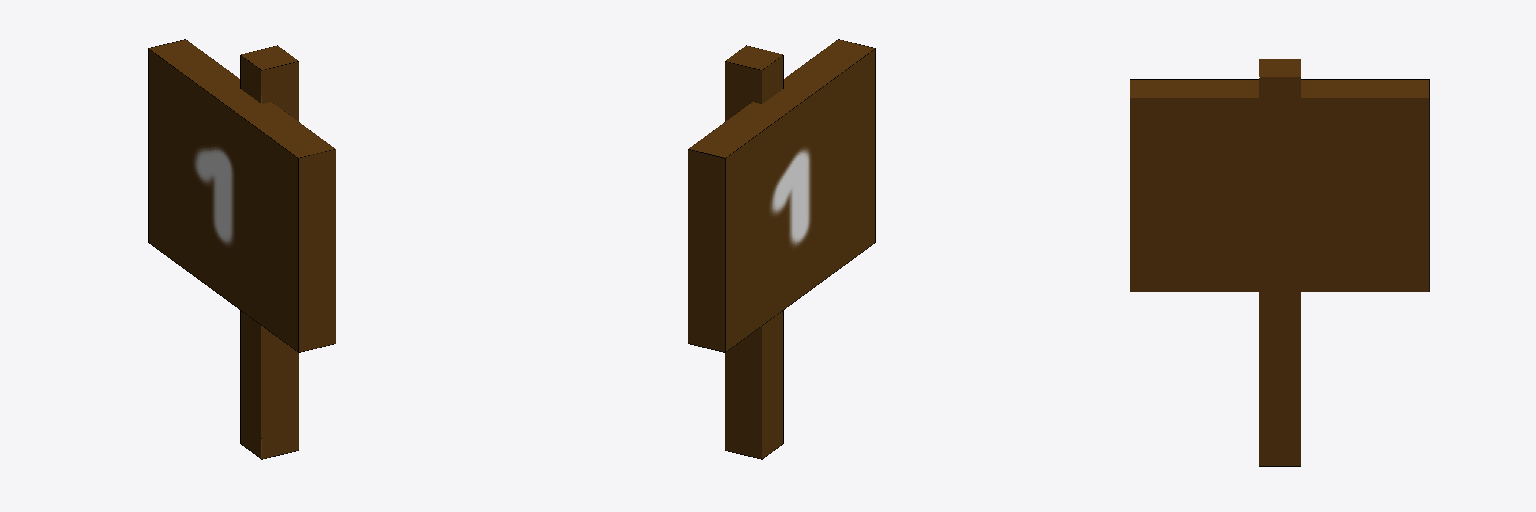
3 renders of one model, left to right at view 1: azimuth 30°, elevation 25°; view 2: azimuth 150°, elevation 25°; view 3: azimuth 270°, elevation 25°, orthographic.
Visible parts, largest first — view 1: 立方体; view 2: 立方体; view 3: 立方体.
Boxes of the visible parts, x1,y1,x2,y2 form: 立方体: [148, 39, 335, 459]; 立方体: [688, 39, 875, 459]; 立方体: [1130, 59, 1429, 466].
Bounding box in the file's own units: 0.1741 × 1 × 0.7.
Materials: 1 (1 with a texture image).